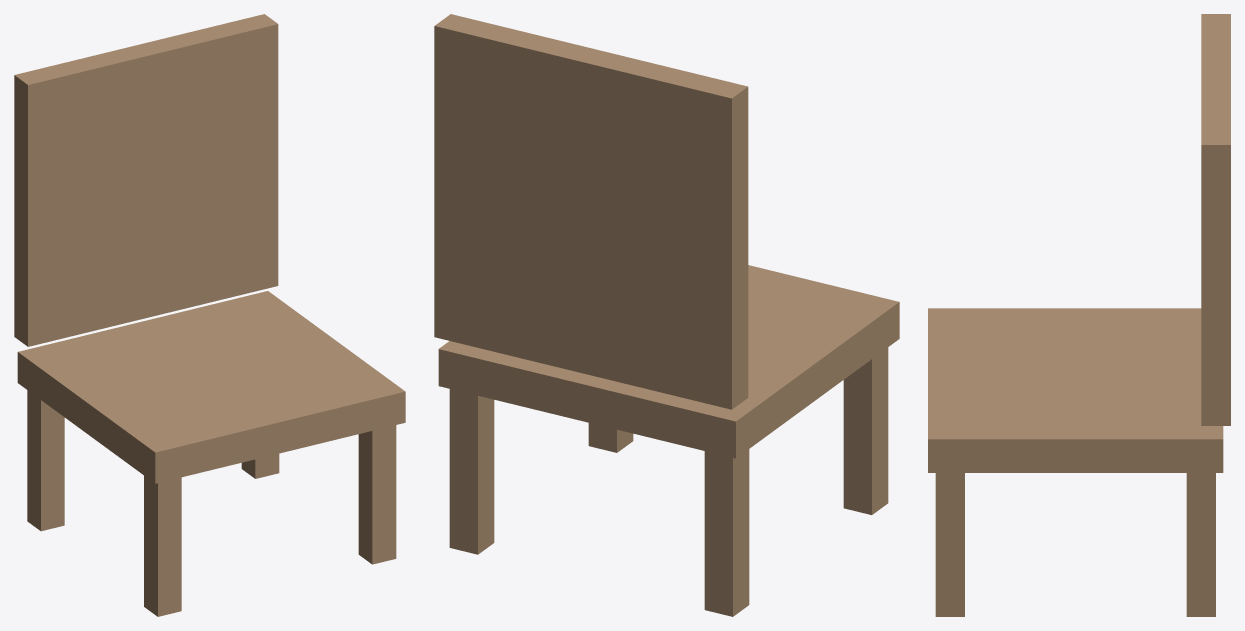
Rendered from Chair.glb.
3 renders of one model, left to right at view 1: azimuth 30°, elevation 25°; view 2: azimuth 150°, elevation 25°; view 3: azimuth 270°, elevation 25°, orthographic. The views are drawn at different scales.
Visible parts, largest first — view 1: Chair_Back, Chair_Seat, Chair_Leg.002, Chair_Leg, Chair_Leg.001, Chair_Leg.003; view 2: Chair_Back, Chair_Seat, Chair_Leg.001, Chair_Leg.003, Chair_Leg, Chair_Leg.002; view 3: Chair_Seat, Chair_Back, Chair_Leg.002, Chair_Leg.003.
Boxes of the visible parts, bbox=[...] form: Chair_Back: bbox=[14, 14, 278, 346]; Chair_Seat: bbox=[17, 291, 405, 483]; Chair_Leg.002: bbox=[358, 425, 396, 564]; Chair_Leg: bbox=[144, 475, 181, 616]; Chair_Leg.001: bbox=[27, 390, 64, 531]; Chair_Leg.003: bbox=[241, 453, 279, 478]; Chair_Back: bbox=[434, 14, 748, 409]; Chair_Seat: bbox=[438, 265, 899, 458]; Chair_Leg.001: bbox=[704, 449, 749, 616]; Chair_Leg.003: bbox=[449, 389, 494, 554]; Chair_Leg: bbox=[843, 347, 888, 514]; Chair_Leg.002: bbox=[588, 423, 633, 452]; Chair_Seat: bbox=[928, 308, 1223, 472]; Chair_Back: bbox=[1201, 14, 1230, 425]; Chair_Leg.002: bbox=[935, 473, 964, 616]; Chair_Leg.003: bbox=[1186, 473, 1215, 616].
Bounding box in the file's own units: 0.42 × 0.71 × 0.41.
